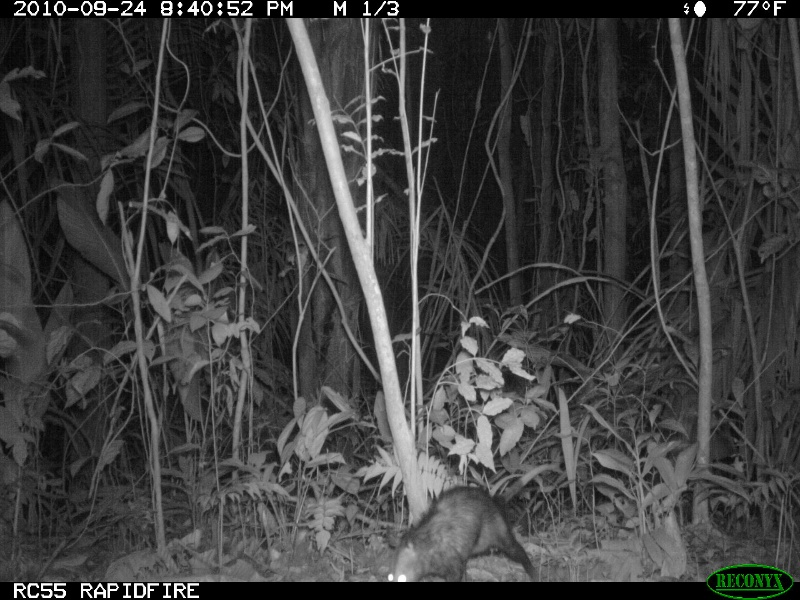opossum: (384, 457, 573, 582)
